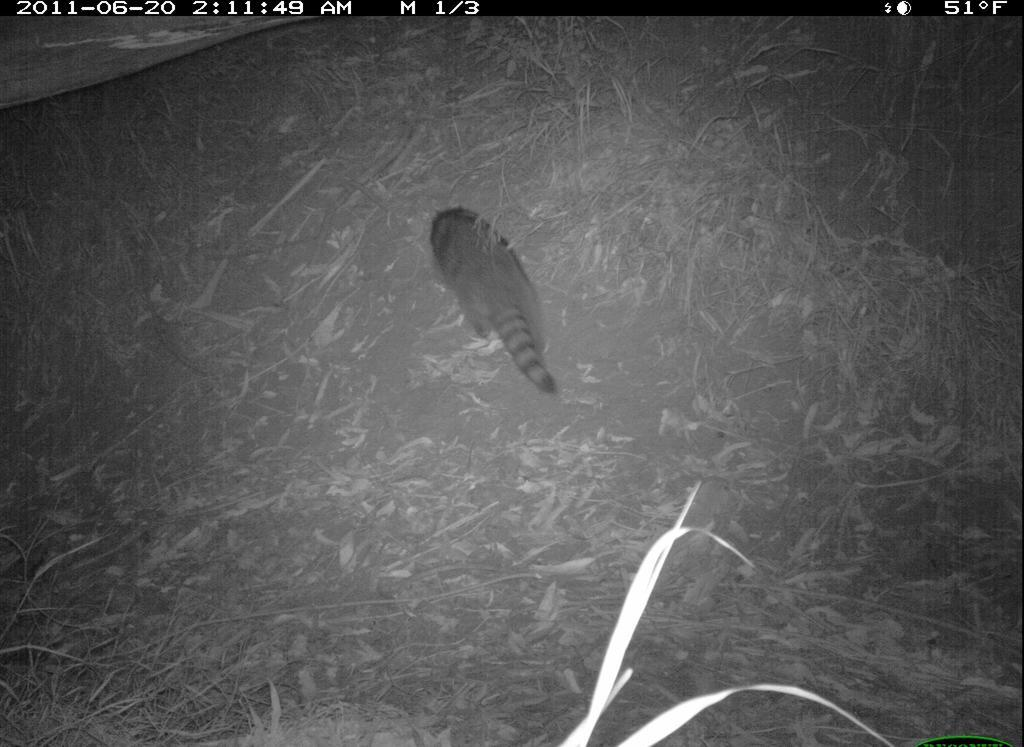raccoon: (422, 205, 567, 401)
